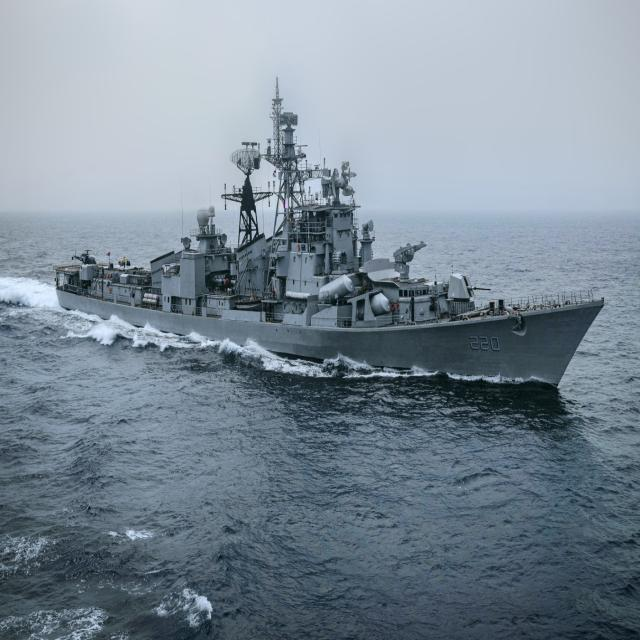navalvessels: (35, 100, 621, 387)
